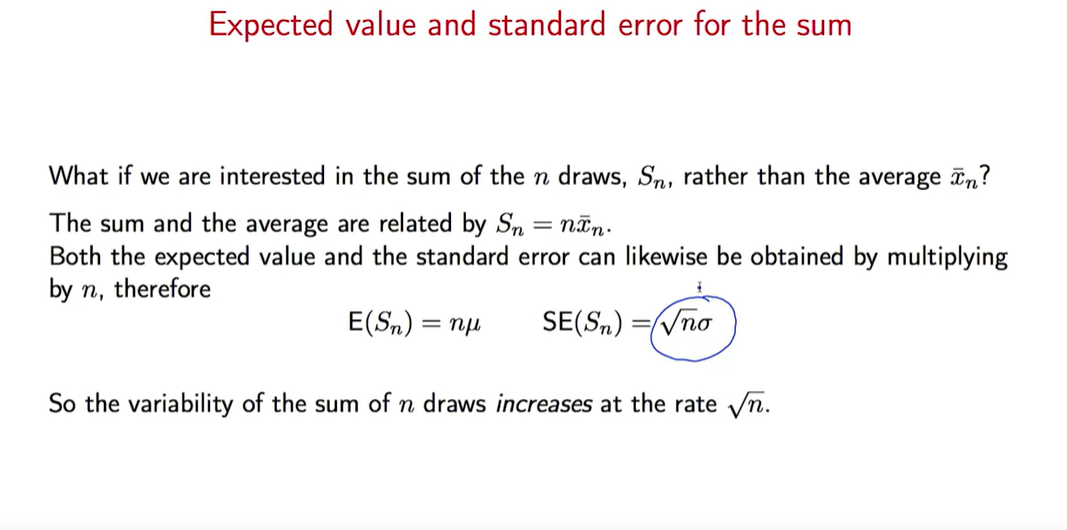equation: (540, 309, 722, 336), (347, 308, 484, 339), (494, 209, 603, 240)
text: (49, 245, 1010, 302), (44, 163, 990, 189), (210, 9, 856, 44), (48, 390, 770, 419), (44, 211, 487, 240)
